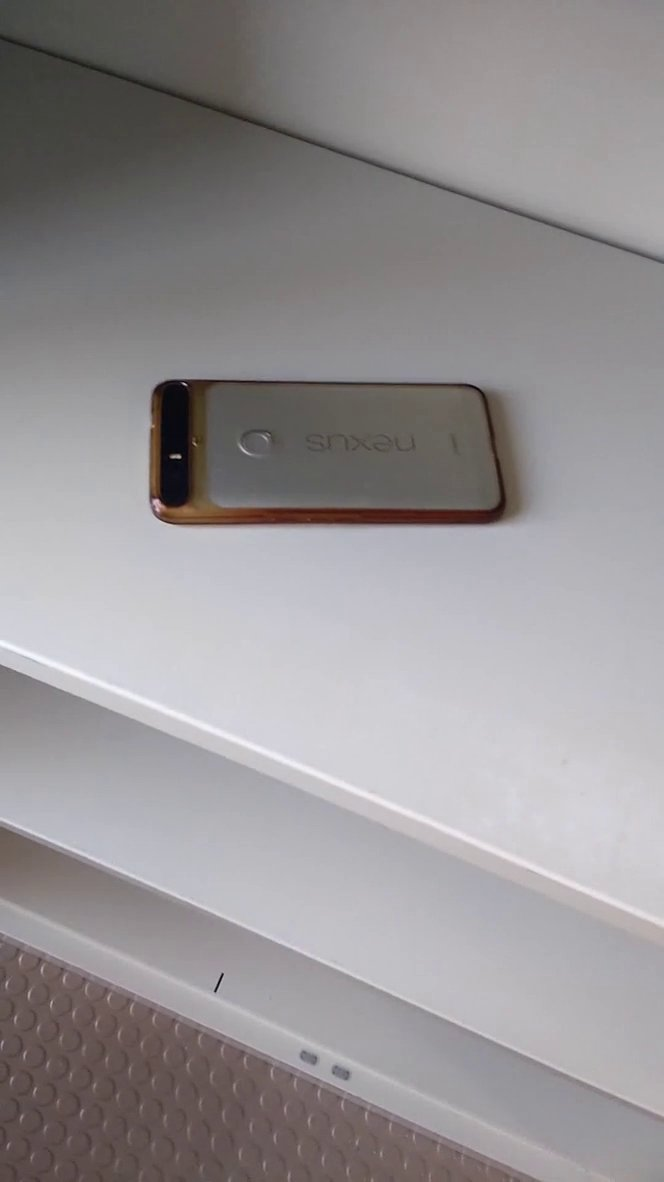phone: (138, 353, 526, 542)
